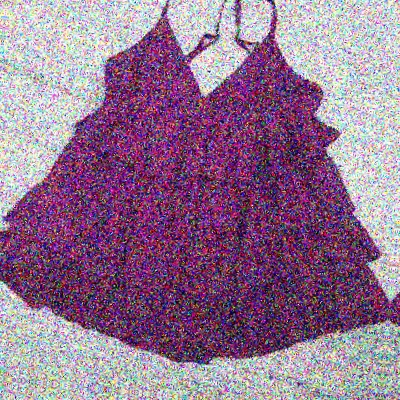Dress: (0, 0, 400, 384), (390, 7, 400, 400), (0, 0, 6, 341)
